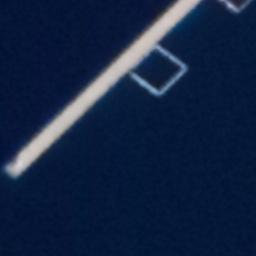square_solid: (125, 44, 189, 100)
